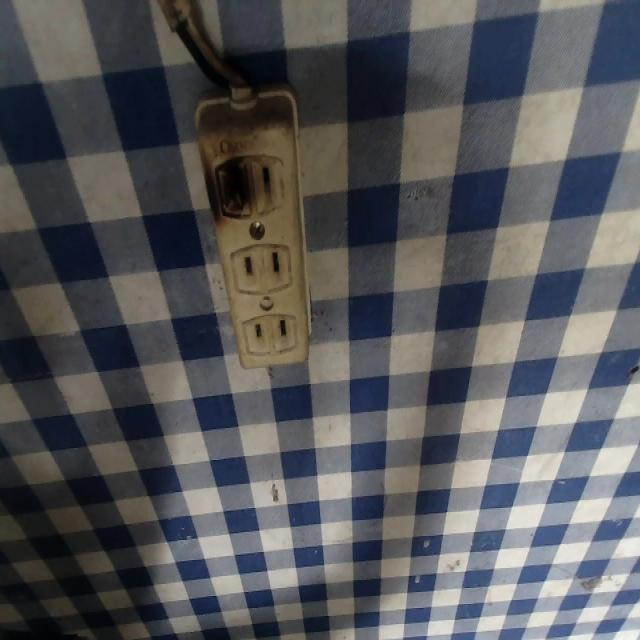-: (201, 149, 260, 227)
